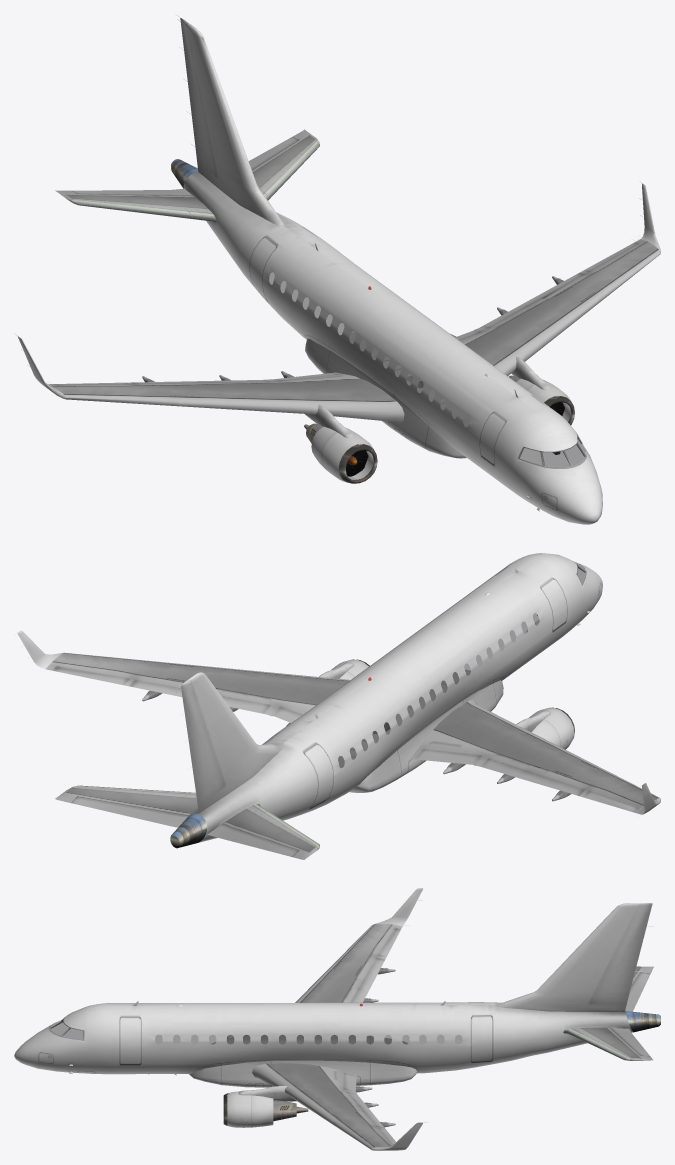
3 renders of one model, top to bottom at view 1: azimuth 30°, elevation 25°; view 2: azimuth 150°, elevation 25°; view 3: azimuth 270°, elevation 25°, orthographic. The views are drawn at different scales.
Visible parts, largest first — view 1: rudder, apu.exhaust, cylinder.003; view 2: rudder, apu.exhaust, cylinder.003; view 3: rudder, apu.exhaust, cylinder.003.
Boxes of the visible parts, x1=… form: rudder: x1=18, y1=15, x2=660, y2=524; apu.exhaust: x1=48, y1=129, x2=660, y2=475; cylinder.003: x1=269, y1=272, x2=585, y2=466; rudder: x1=17, y1=553, x2=660, y2=842; apu.exhaust: x1=46, y1=561, x2=659, y2=859; cylinder.003: x1=338, y1=562, x2=585, y2=767; rudder: x1=14, y1=888, x2=653, y2=1150; apu.exhaust: x1=49, y1=923, x2=660, y2=1149; cylinder.003: x1=51, y1=1018, x2=462, y2=1044.
Bounding box in the file's own units: 25.56 × 9.46 × 29.8.
8 materials, 4 textured.
